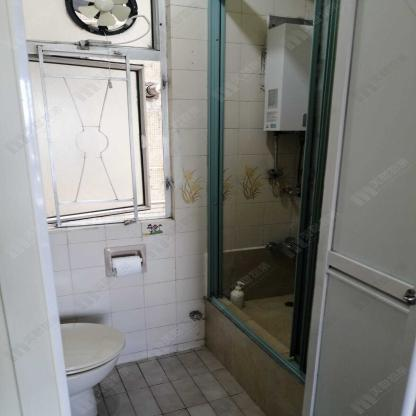Exhaust Fan: (58, 0, 147, 35)
Toilet: (60, 311, 133, 416)
Water Cubicle: (203, 0, 344, 416)
Water Heater: (261, 24, 314, 132)
